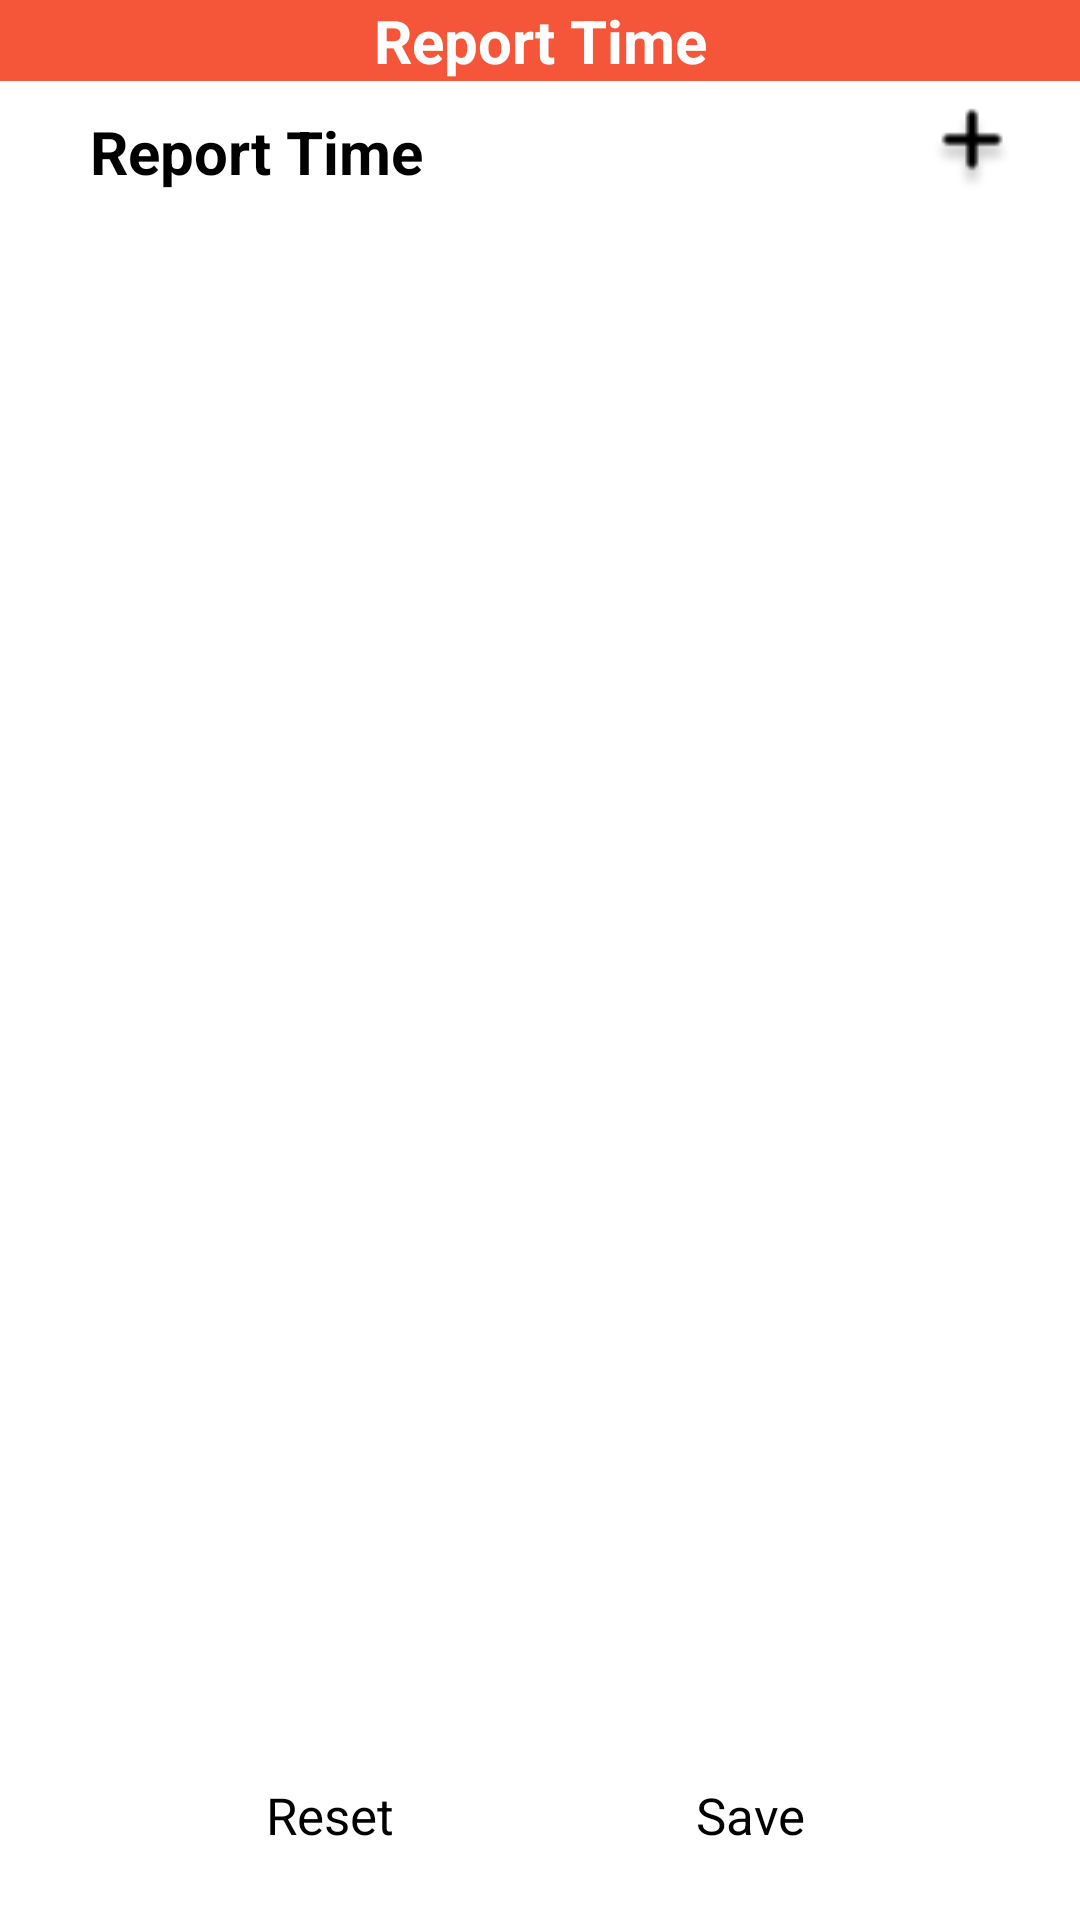

Where icons sit on this 1080×1920 app screen, as [x1, y1, x2, y2]:
plus: [941, 109, 1003, 178]
